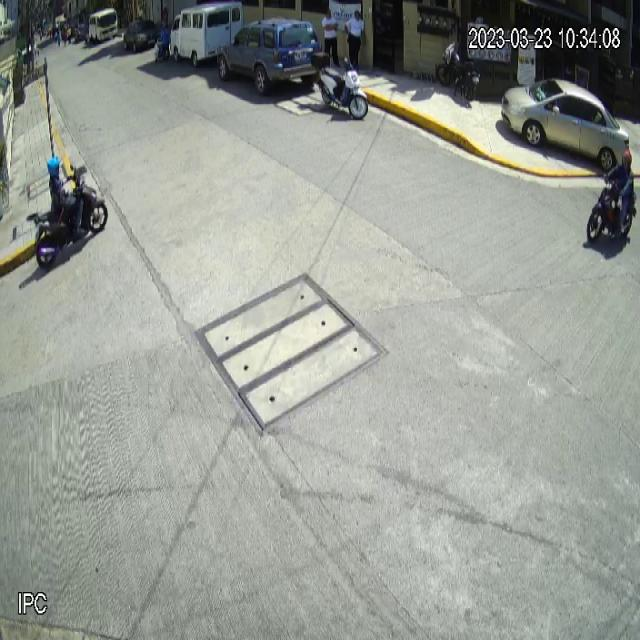Car: (500, 76, 631, 172), (216, 17, 323, 97)
Motorcycle: (25, 161, 109, 272), (309, 51, 369, 122)
Van: (169, 0, 244, 69)
